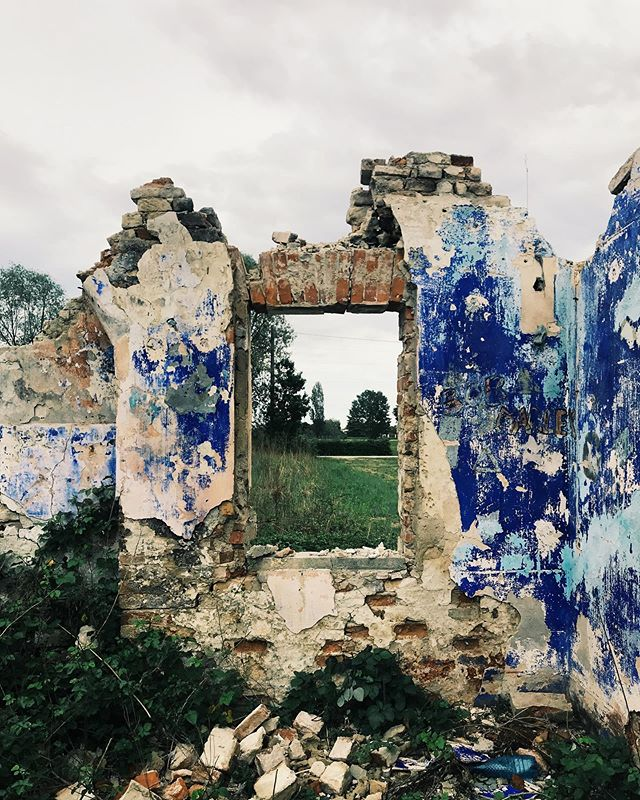building: (1, 108, 637, 716)
debris: (35, 683, 578, 794)
sky: (1, 1, 640, 214)
